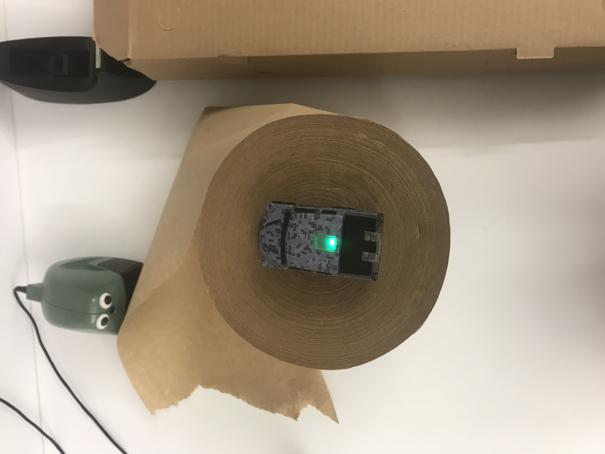MXT: (256, 201, 386, 282)
